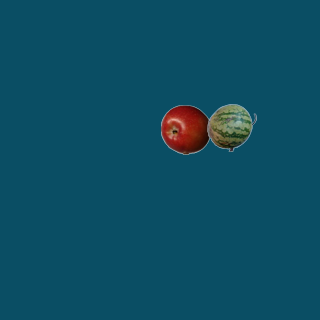Apple Braeburn: (160, 104, 210, 154)
Watermelon: (206, 102, 256, 152)
